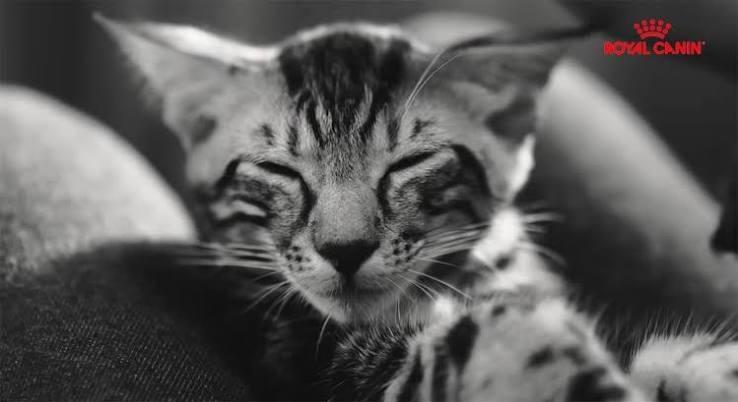non-dog: (88, 3, 738, 402)
